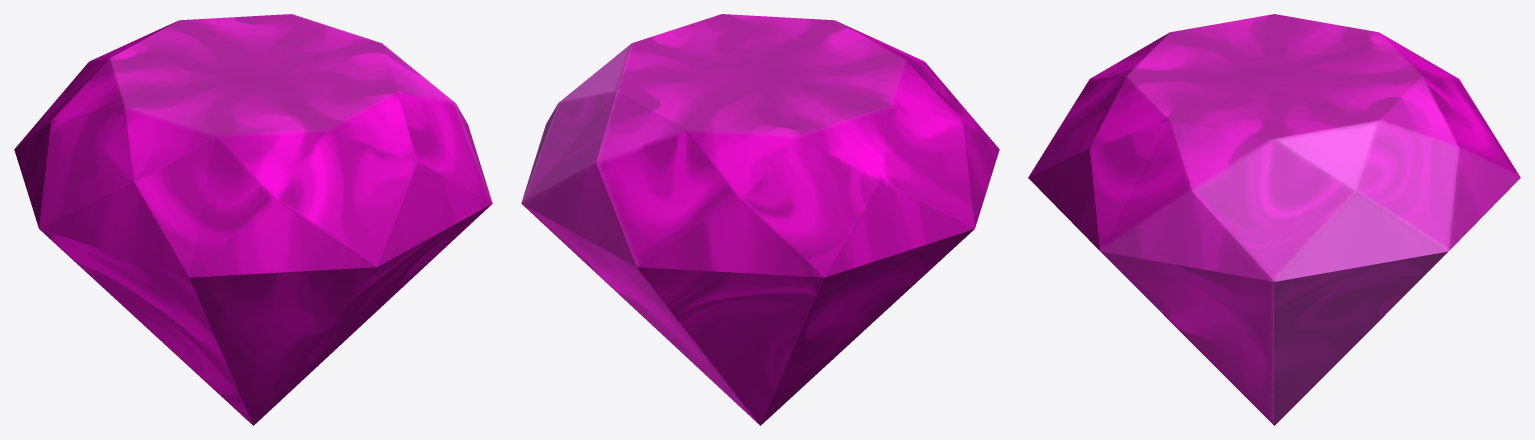
File: gem.fbx
3 views of the same model, side by side, from view 1: azimuth 30°, elevation 25°; view 2: azimuth 150°, elevation 25°; view 3: azimuth 270°, elevation 25° (orthographic).
Parts seen in each view (by area): view 1: GemTop, GemBottom; view 2: GemTop, GemBottom; view 3: GemTop, GemBottom.
Part boxes in pixels (left/top/right/bottom): GemTop: left=14, top=14, right=492, bottom=277; GemBottom: left=39, top=204, right=491, bottom=425; GemTop: left=521, top=14, right=999, bottom=277; GemBottom: left=522, top=204, right=974, bottom=425; GemTop: left=1028, top=14, right=1520, bottom=281; GemBottom: left=1101, top=251, right=1447, bottom=425.
Bounding box in the file's own units: 0.486 × 0.3803 × 0.486.
Materials: 1 (1 with a texture image).
